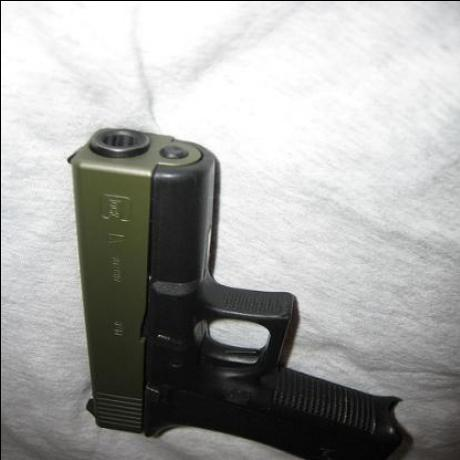weapon: (49, 123, 421, 460)
